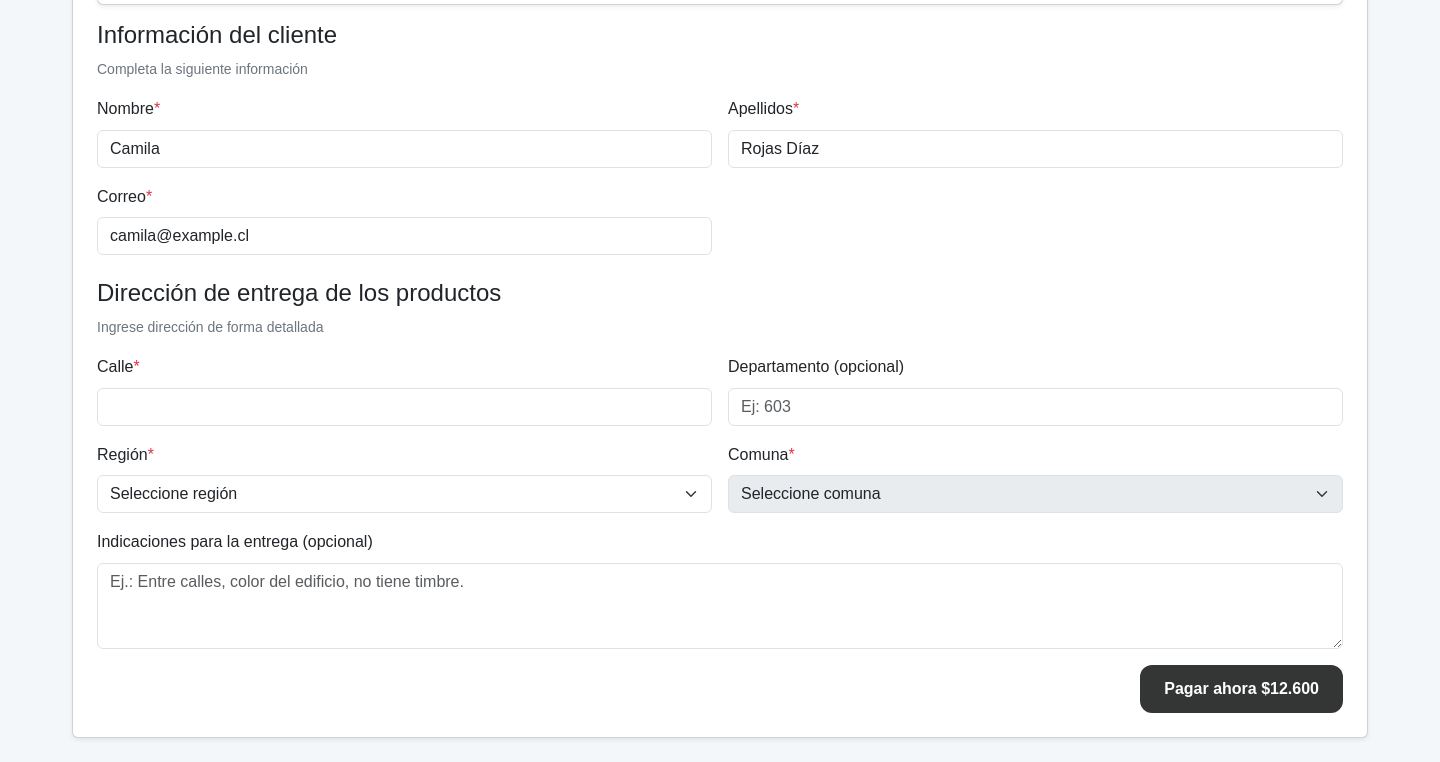
it: Carrito › muestra el motivo si la API rechaza el pedido y no vacía el carrito
(page scrolled)
Select "Región Metropolitana" in the dropdown labelled "Región*" at (404, 494), box [97,476,712,514]
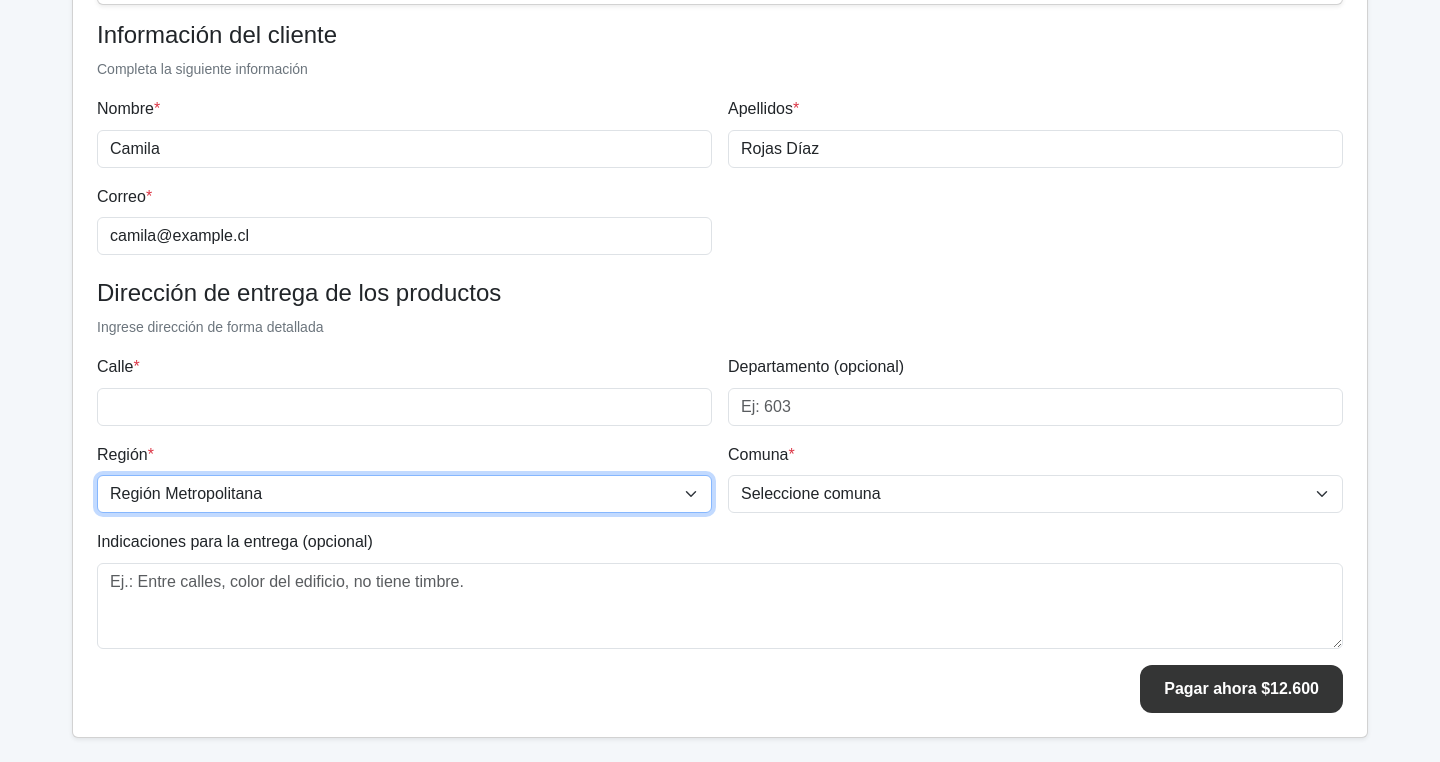
Select "Santiago" in the dropdown labelled "Comuna*" at (1036, 494), box [728,476,1343,514]
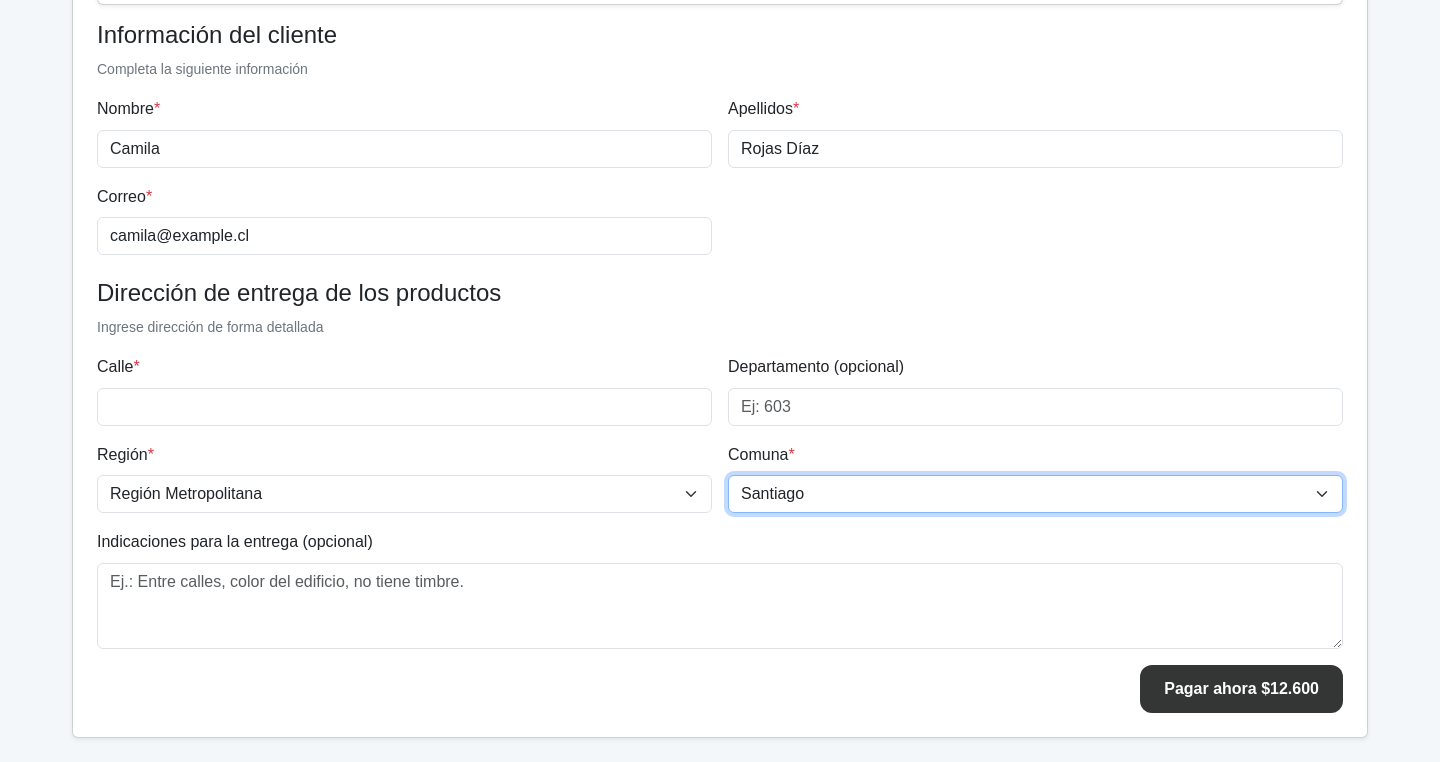
Type "Los Crisantemos 123" into the field labelled "Calle*" at (404, 407), box [97,388,712,426]
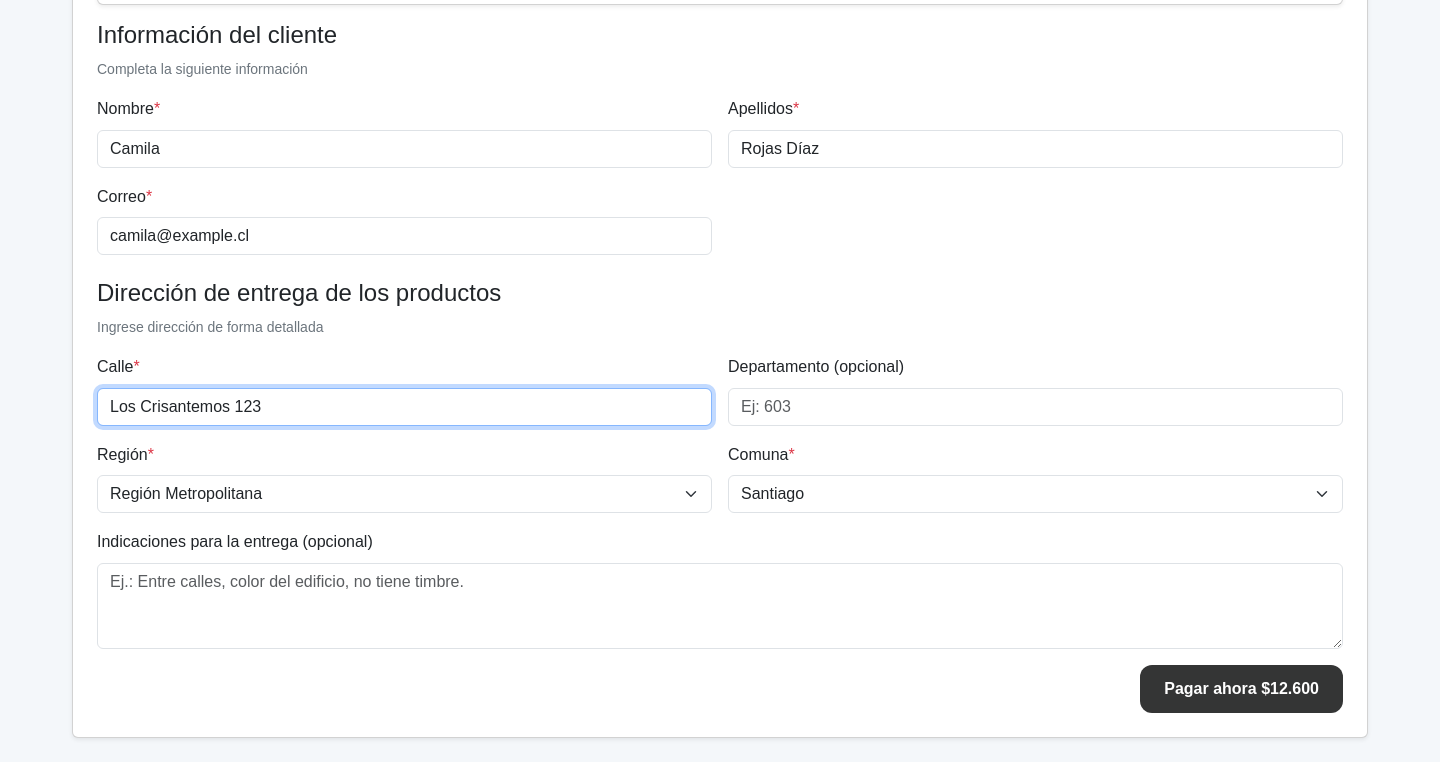
Click the button "Pagar ahora $12.600" at (1242, 689), box [1140,665,1343,713]
(page scrolled)
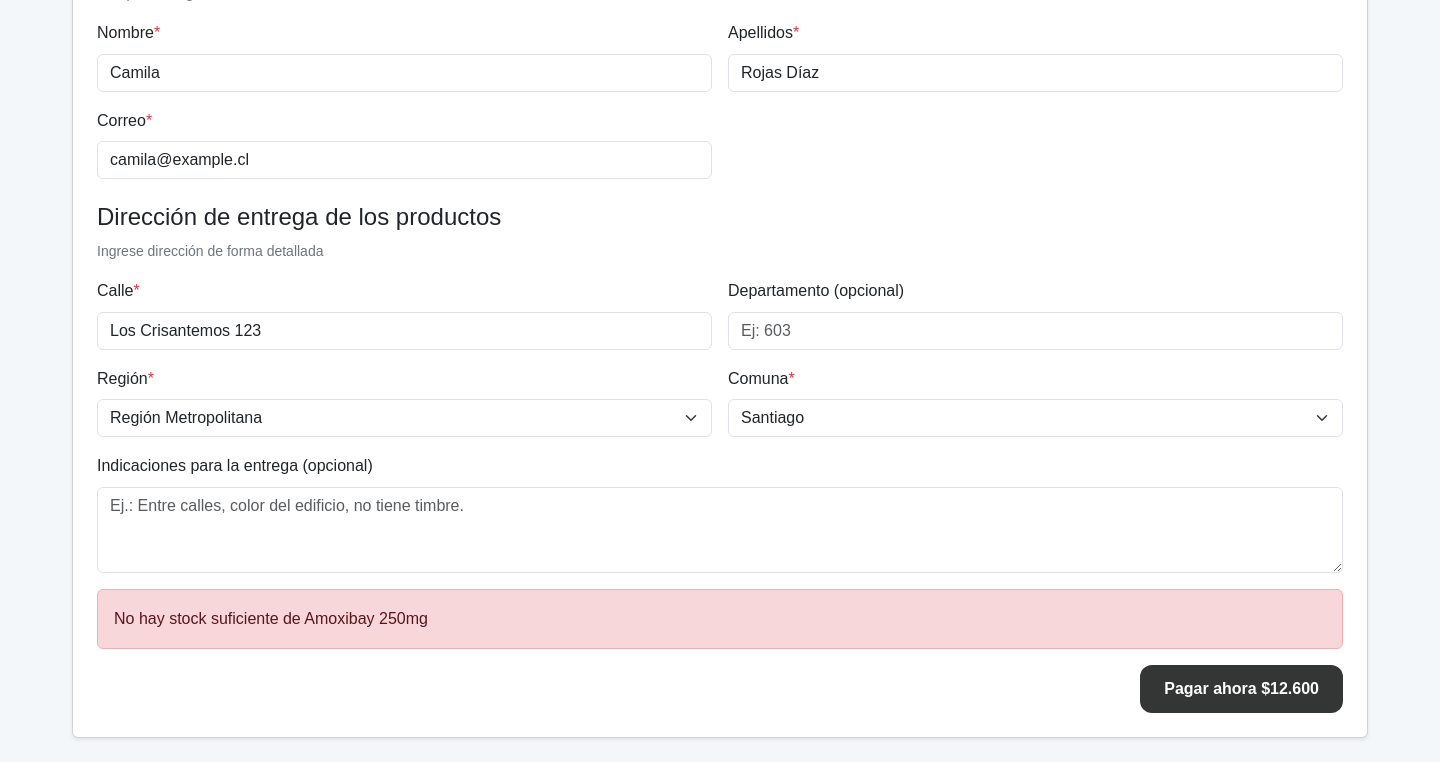
Now the text "No hay stock suficiente de Amoxibay 250mg" is shown, box [97,589,1343,649]
